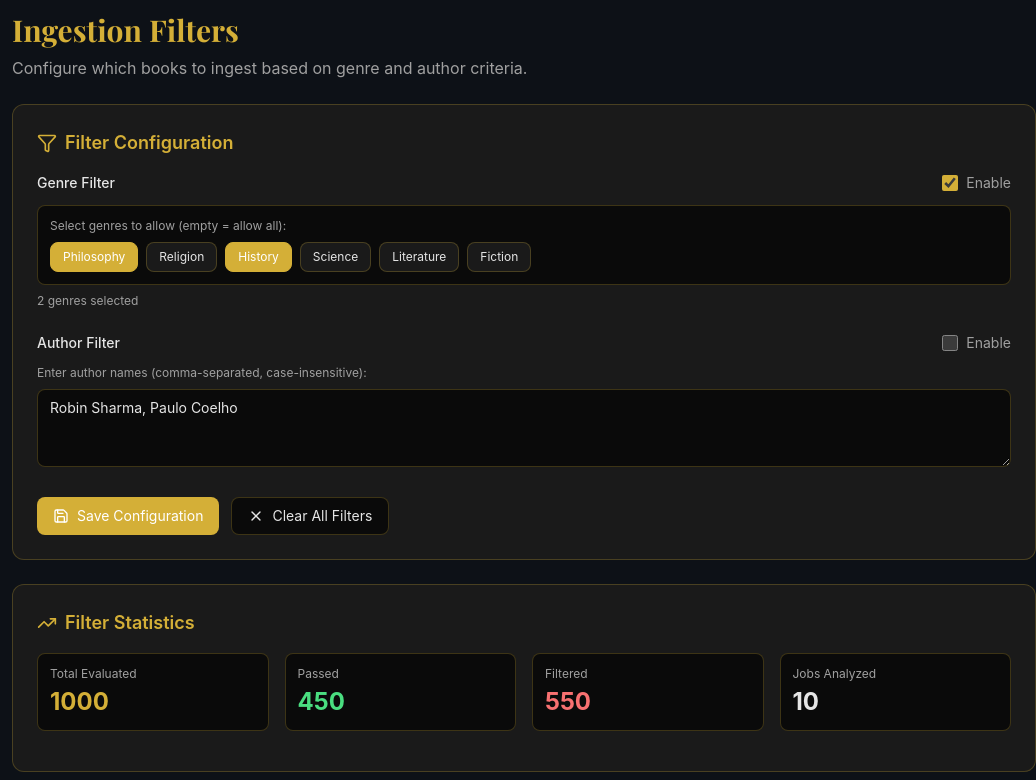
Test: IngestionFiltersPanel - Unit Tests › Genre Selection › should toggle genre selection when genre button is clicked
# Click to select
Click the button "Science".
click(336, 257)  # box [300,242,371,272]
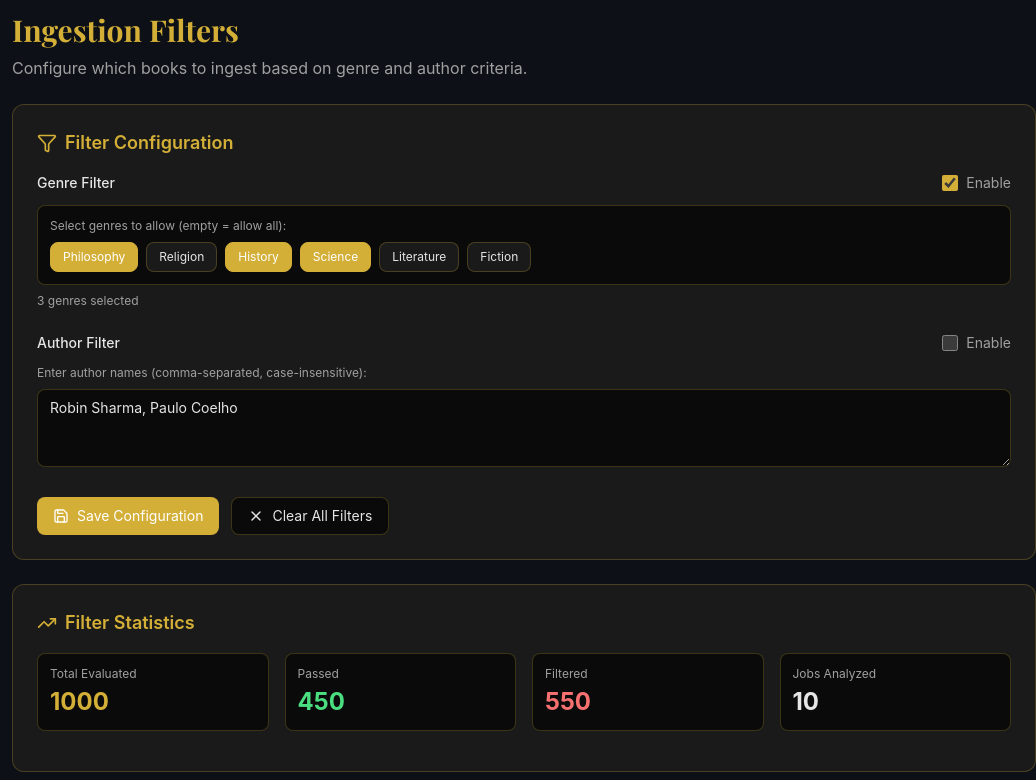
Expected: the text "3 genres selected" is shown, [37,293,138,308]
